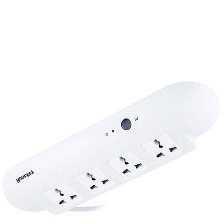three_eye_plug: (0, 77, 221, 216)
